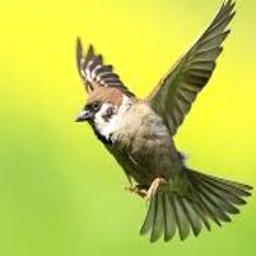Sparrow: (75, 0, 253, 243)
